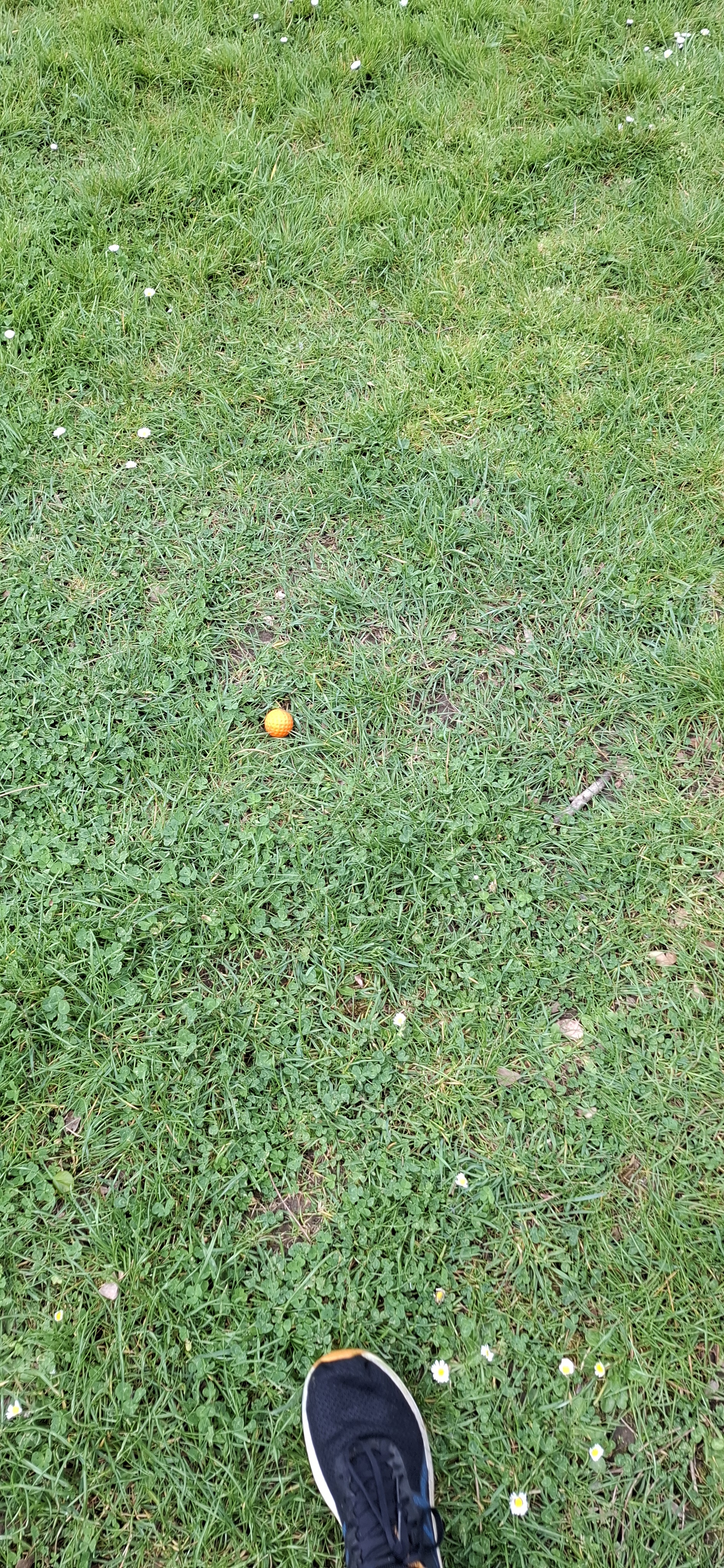ball: (327, 932, 341, 995)
